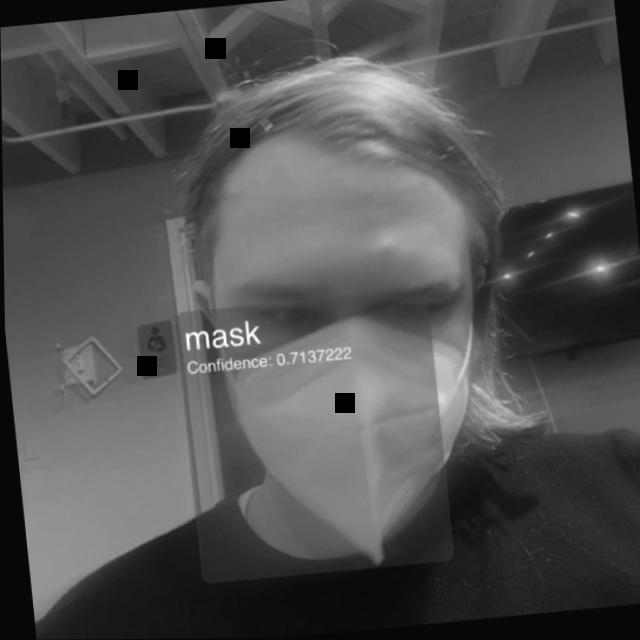Mask: (131, 40, 562, 585)
